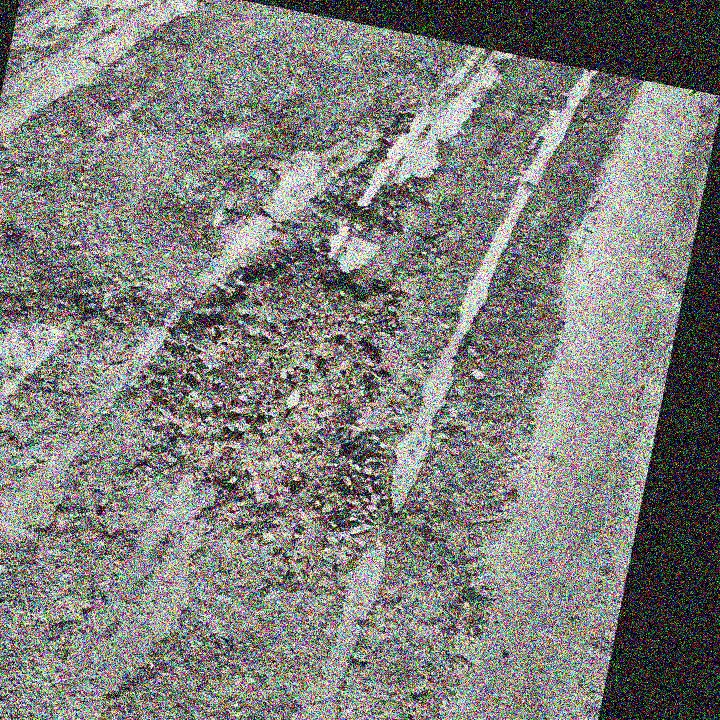pothole: (119, 217, 437, 575)
